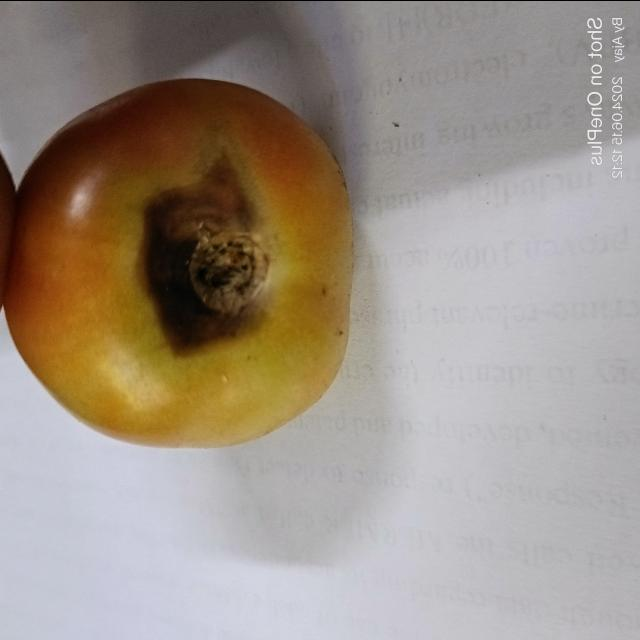Anthrocnose: (134, 158, 278, 356)
